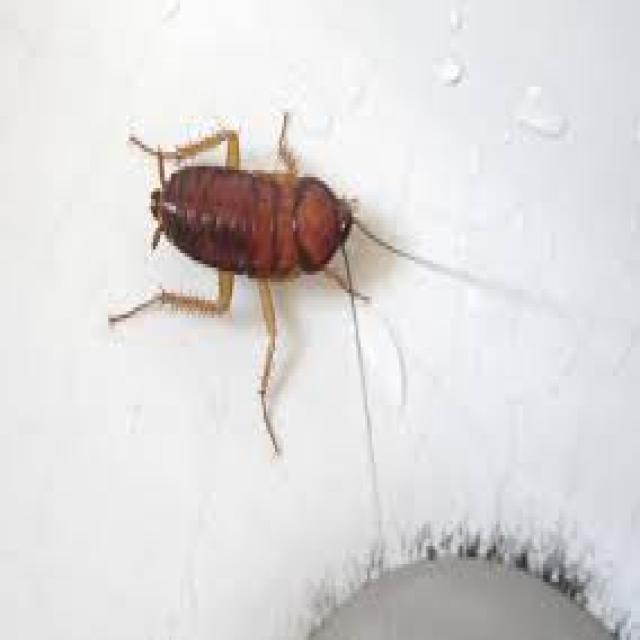Cockroach: (120, 123, 374, 423)
